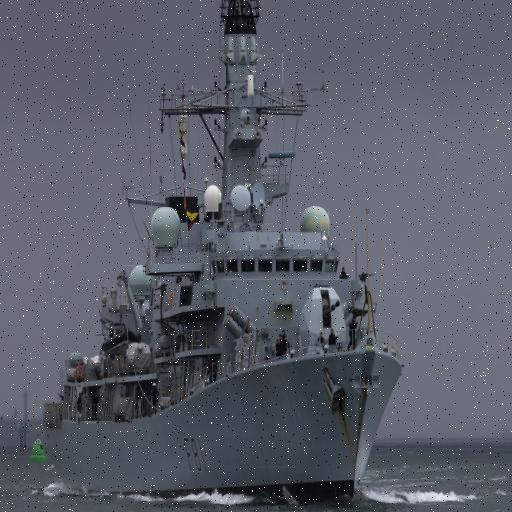Fragata: (39, 1, 408, 505)
